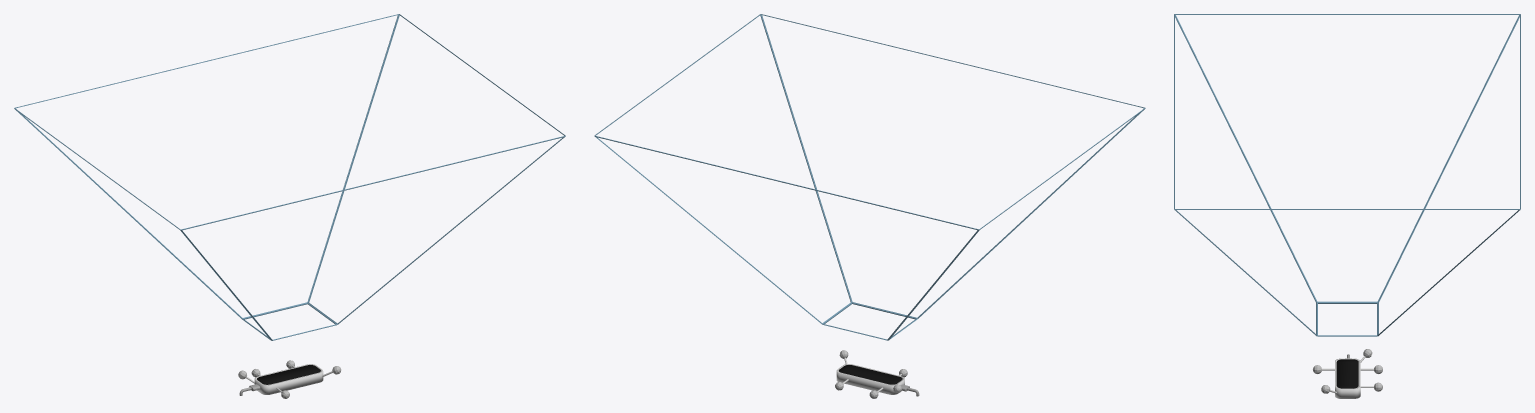
The model's file is LeapModelMaterial.dae.
3 views of the same model, side by side, from view 1: azimuth 30°, elevation 25°; view 2: azimuth 150°, elevation 25°; view 3: azimuth 270°, elevation 25° (orthographic). The views are drawn at different scales.
Visible parts, largest first — view 1: Cube_003, Cube; view 2: Cube_003, Cube; view 3: Cube_003, Cube.
Part boxes in pixels (box(x1,y1,x2,y2)): Cube_003: box(14, 14, 565, 340); Cube: box(254, 364, 323, 394); Cube_003: box(594, 14, 1145, 340); Cube: box(836, 364, 904, 394); Cube_003: box(1174, 14, 1520, 336); Cube: box(1335, 358, 1360, 398).
Size of the model in its own units: 1.01 by 0.7593 by 0.6583.
